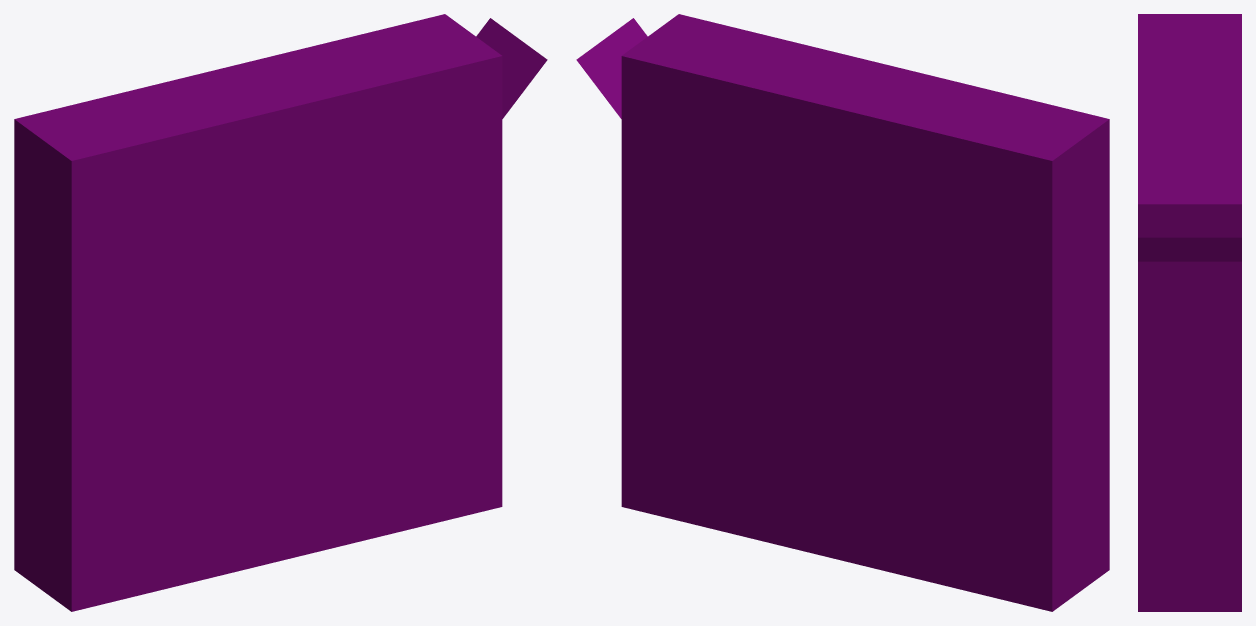
The model's file is Порошок3Unity.fbx.
3 views of the same model, side by side, from view 1: azimuth 30°, elevation 25°; view 2: azimuth 150°, elevation 25°; view 3: azimuth 270°, elevation 25° (orthographic). The views are drawn at different scales.
Parts seen in each view (by area): view 1: Cube; view 2: Cube; view 3: Cube.
Boxes of the visible parts, bbox=[...] form: Cube: bbox=[14, 14, 547, 611]; Cube: bbox=[576, 14, 1109, 611]; Cube: bbox=[1138, 14, 1241, 611].
Bounding box in the file's own units: 221 × 200 × 46.1.
